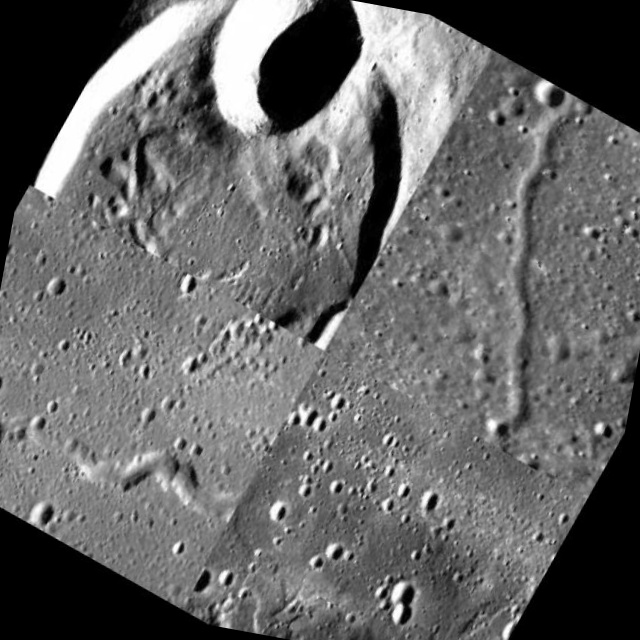crater: (399, 47, 640, 427), (12, 427, 274, 620)
